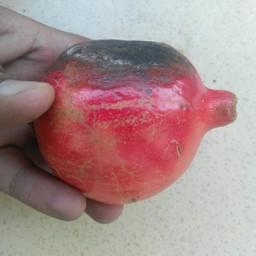Bad_pomegranate: (43, 37, 246, 214)
